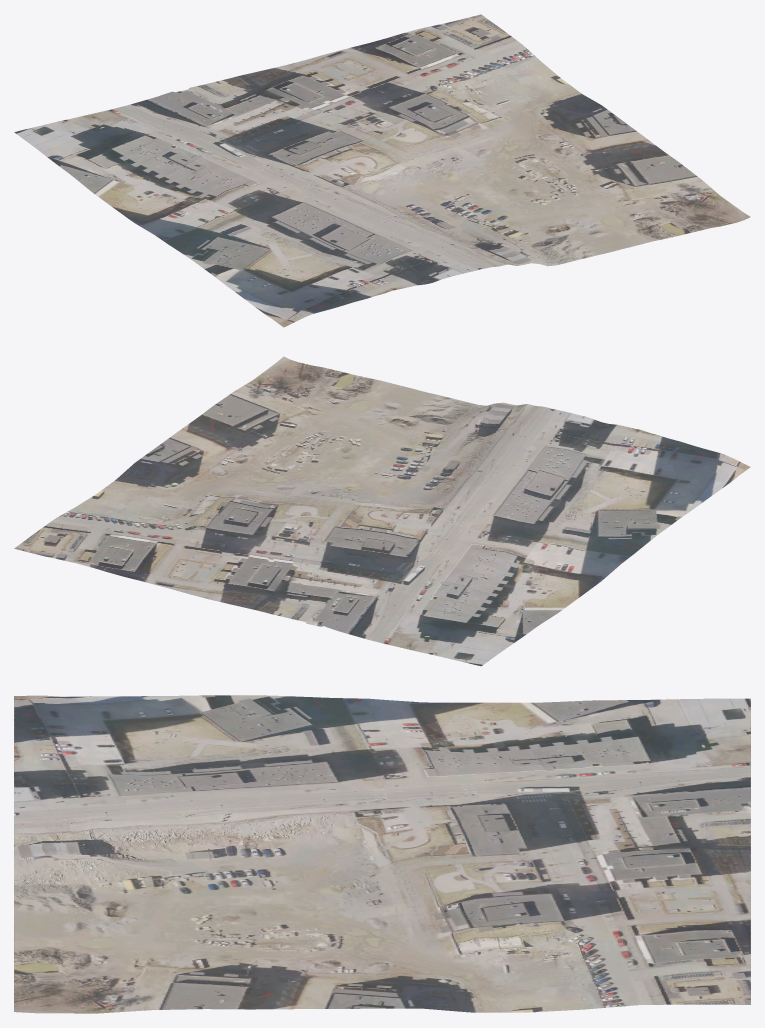
File: CM_Terrain_24491892_6816312.fbx
3 views of the same model, one above another, from view 1: azimuth 30°, elevation 25°; view 2: azimuth 150°, elevation 25°; view 3: azimuth 270°, elevation 25° (orthographic). The views are drawn at different scales.
Visible parts, largest first — view 1: CM_Terrain_24491892_6816312_LOD0; view 2: CM_Terrain_24491892_6816312_LOD0; view 3: CM_Terrain_24491892_6816312_LOD0.
Boxes of the visible parts, x1,y1,x2,y2 form: CM_Terrain_24491892_6816312_LOD0: (14,14,750,327); CM_Terrain_24491892_6816312_LOD0: (14,356,750,666); CM_Terrain_24491892_6816312_LOD0: (14,695,750,1013).
Size of what is drawn, in the model's own units: 205 by 6.75 by 205.
